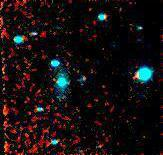star: (124, 62, 154, 92)
